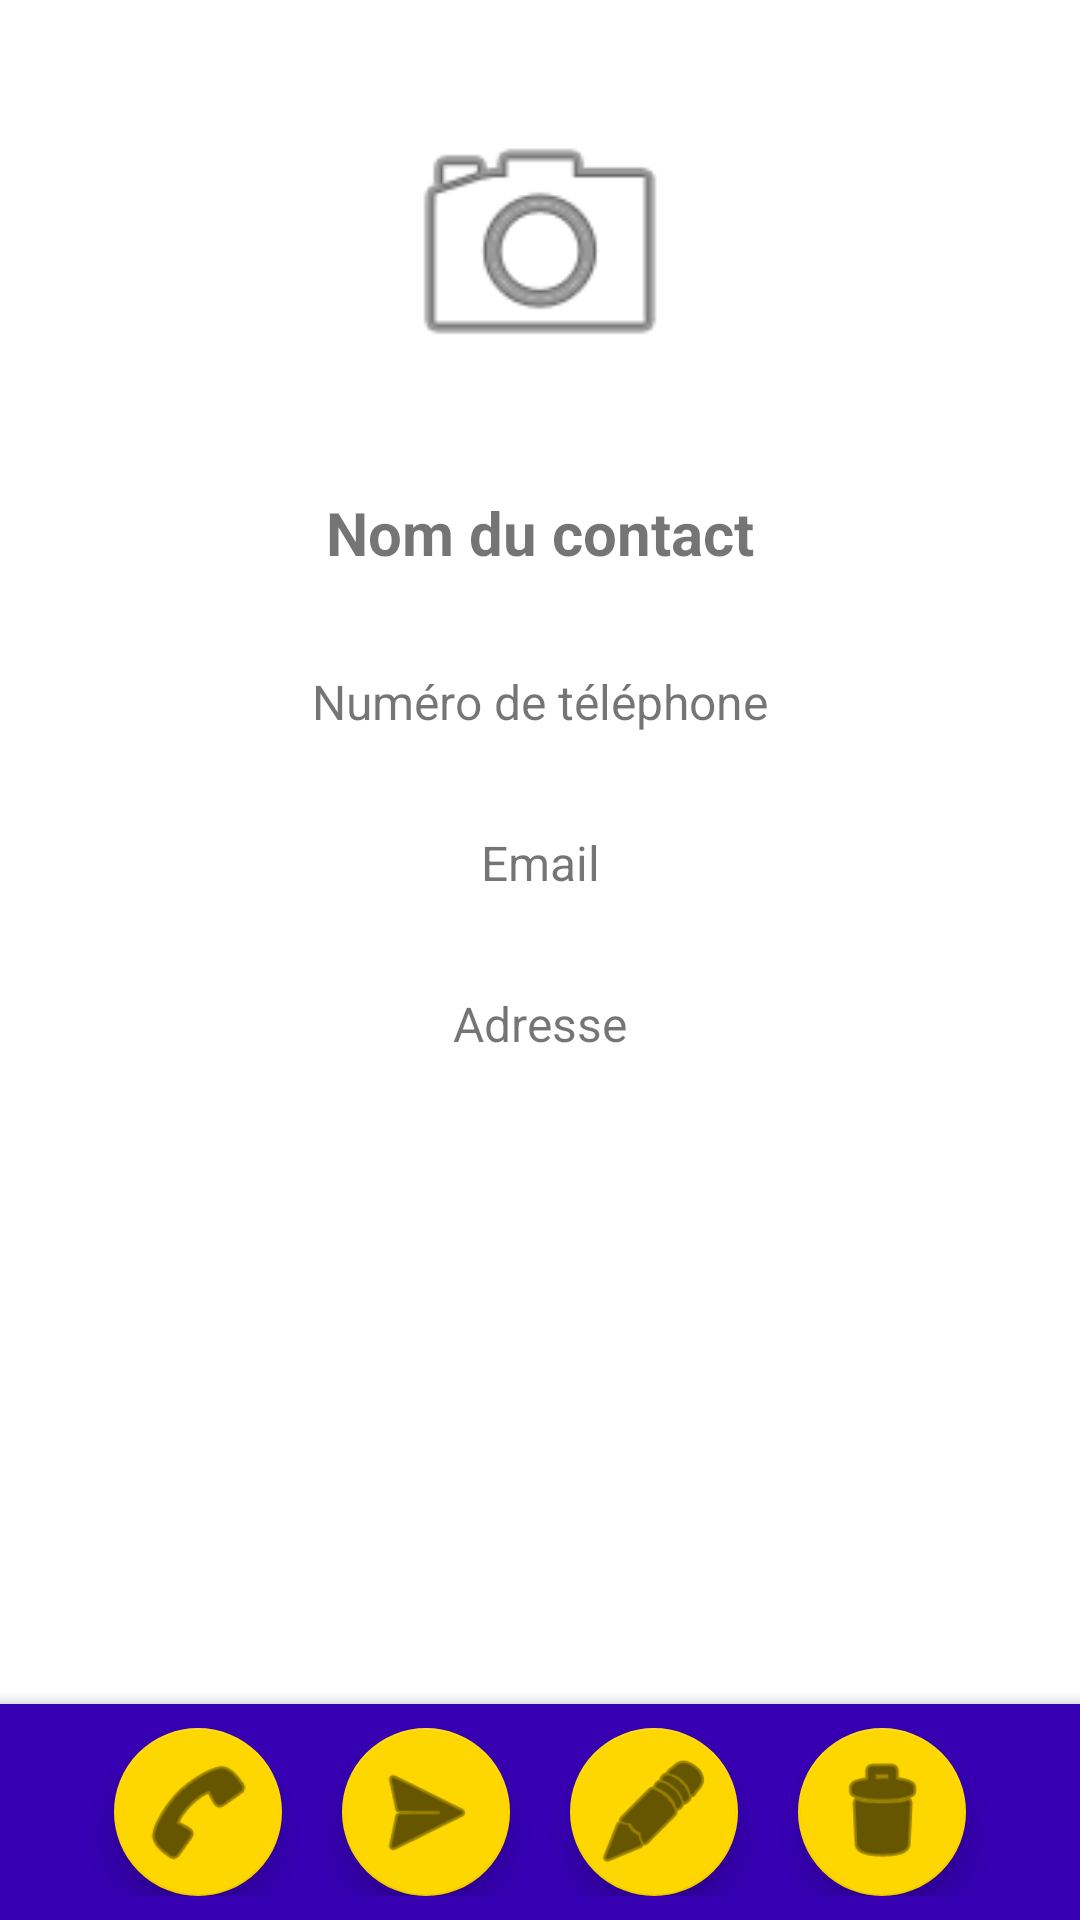

Point at icon controls on the screen. Image size 1080 x 1920, points as point (x, y).
Appeler: point (198, 1812)
Editer le contact: point (654, 1812)
Envoyer un sms: point (426, 1812)
Supprimer le contact: point (882, 1812)
